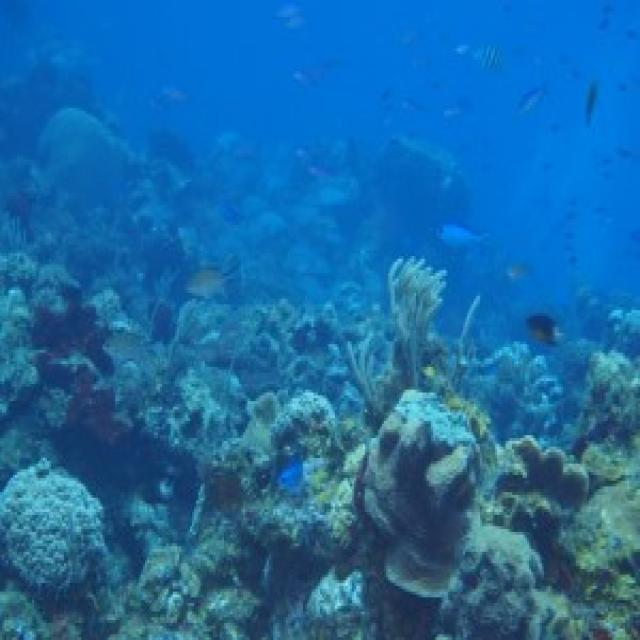Bleached: (1, 459, 108, 590)
Healthy: (210, 396, 357, 595), (357, 391, 481, 595), (443, 524, 637, 638), (344, 260, 445, 425), (562, 482, 639, 638), (496, 436, 590, 539), (283, 570, 370, 638), (579, 351, 639, 439), (18, 487, 33, 496)
